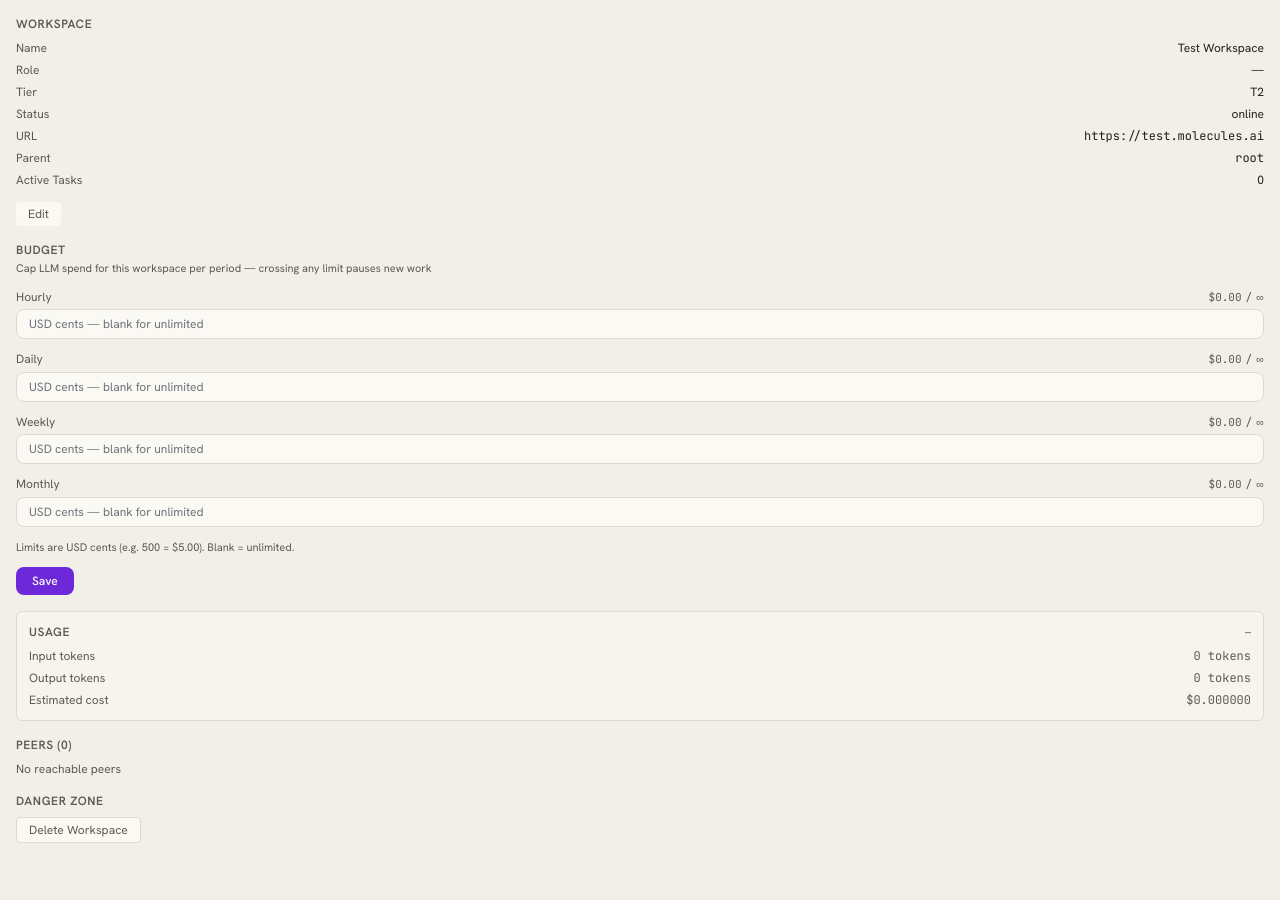
it: DetailsTab — delete workflow › cancelling delete returns to view mode
Click the button "Delete Workspace" at x=78, y=830, box [16,817,141,843]
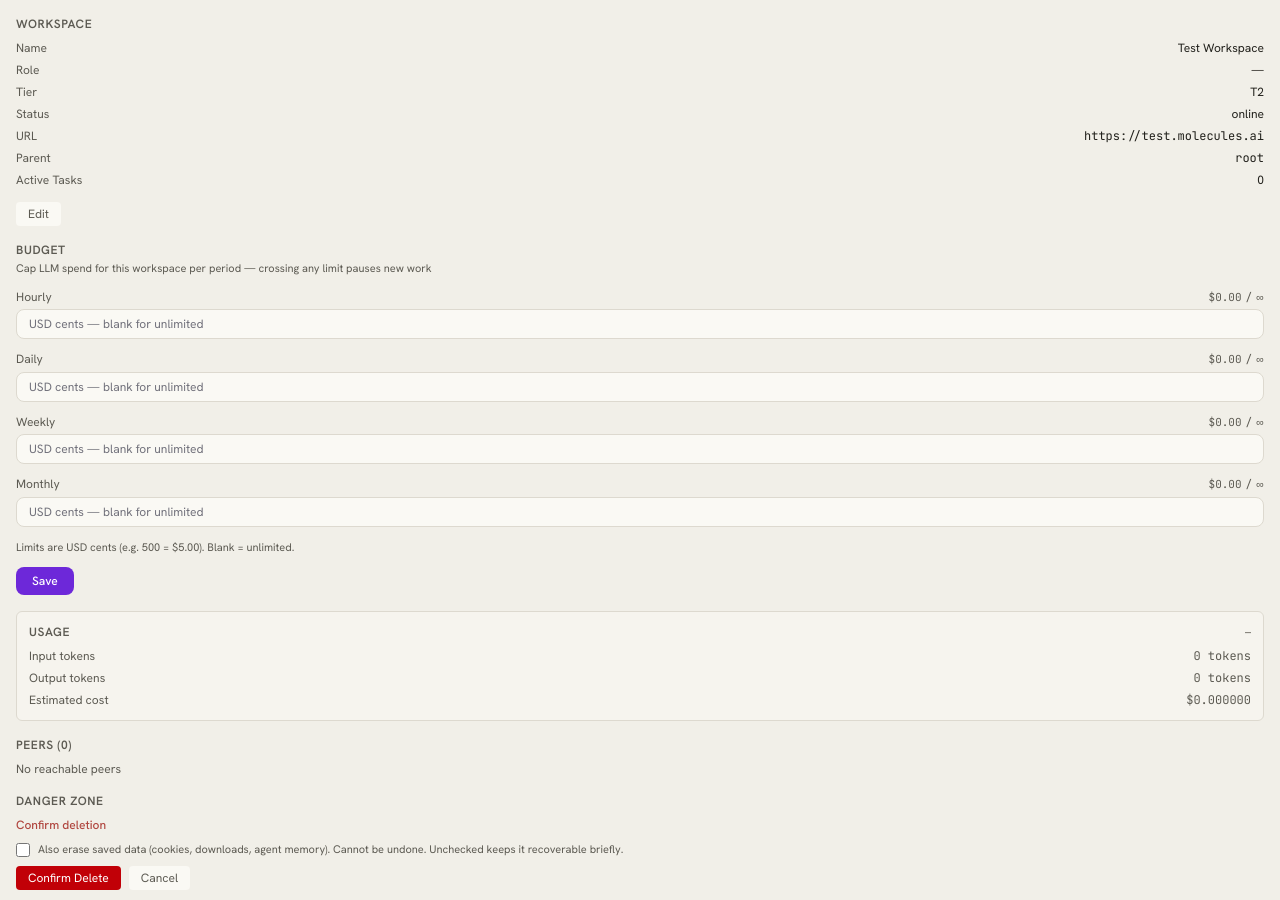
Click the button "Cancel" at x=160, y=878, box [129,866,190,890]
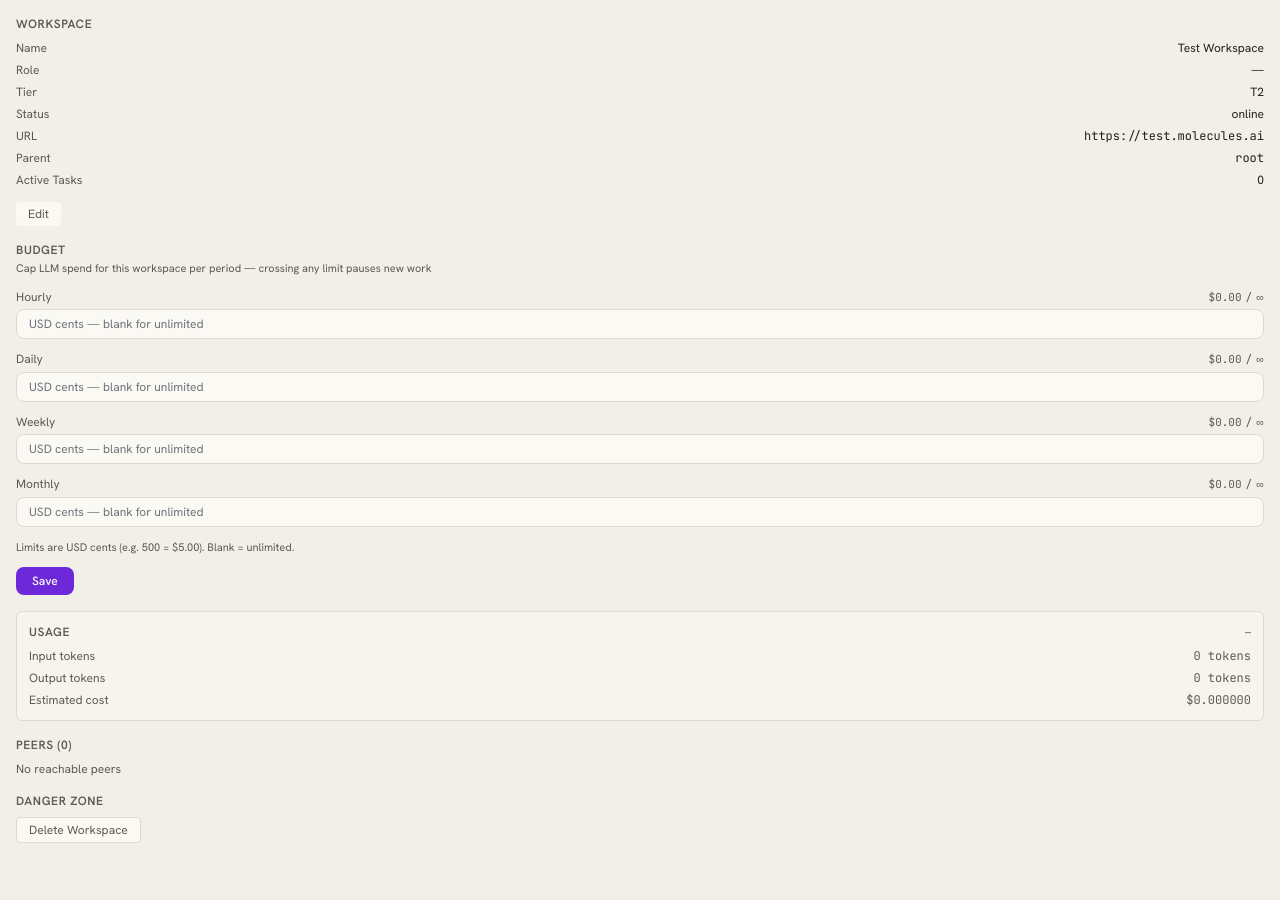
Result: the dialog is gone
Result: the button "Delete Workspace" is shown at [16,817,141,843]
